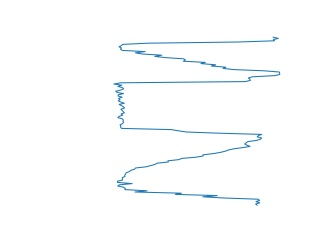distributaryChannelFill: (111, 73, 267, 142)
mouthBar: (117, 34, 282, 75)
underwaterDistributaryChannel: (115, 137, 264, 207)
